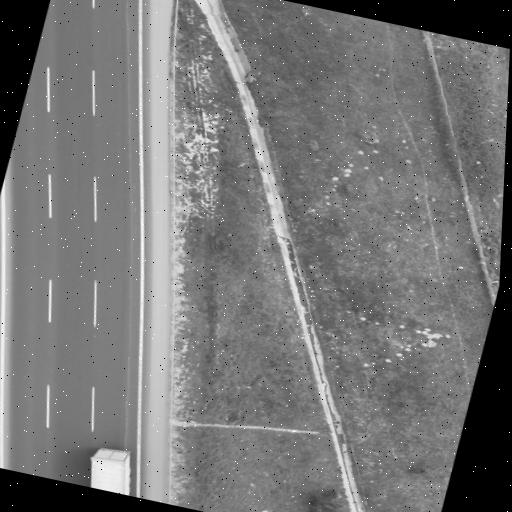truck: (90, 448, 130, 494)
